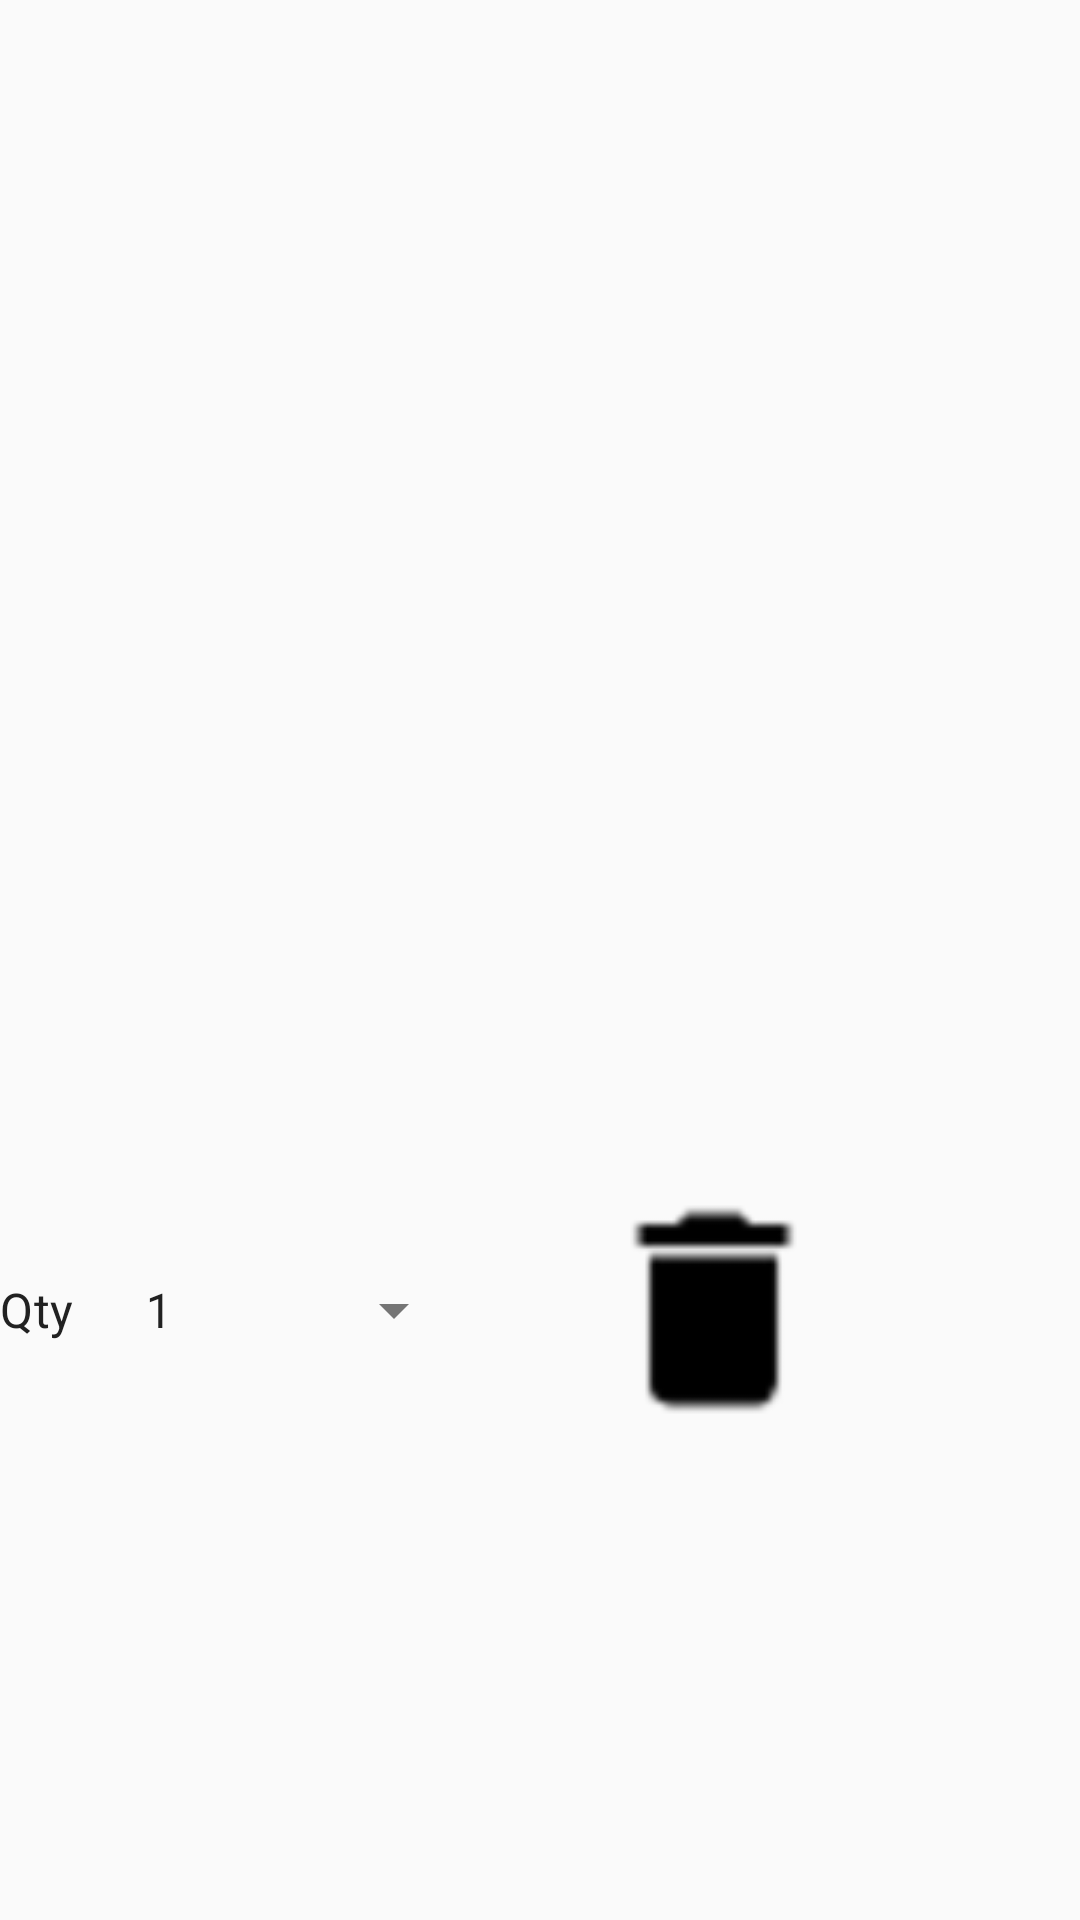

Icon click points for this 1080*1920 phone screenshot, format (x=x, y=y):
delete: (x=713, y=1309)
